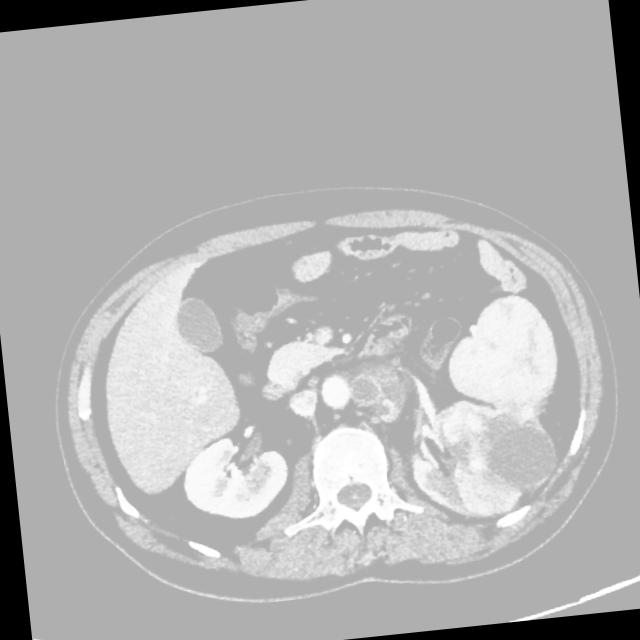TUMOR: (134, 243, 598, 491)
